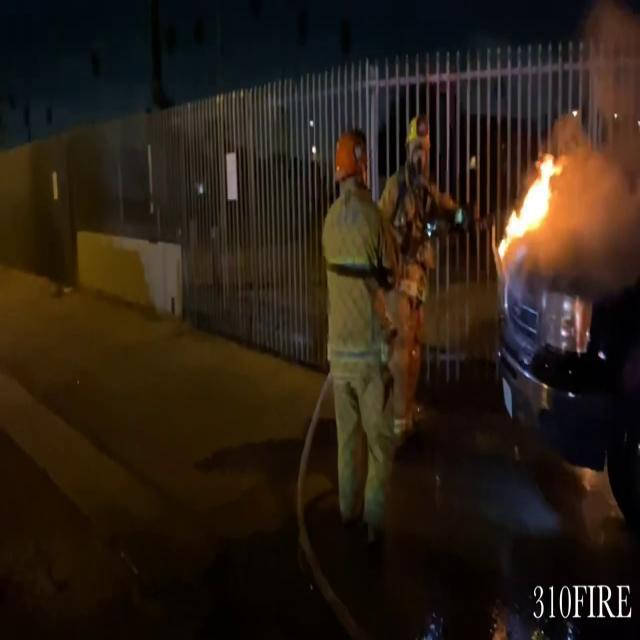Fire: (498, 143, 564, 259)
Smoke: (566, 0, 640, 261)
